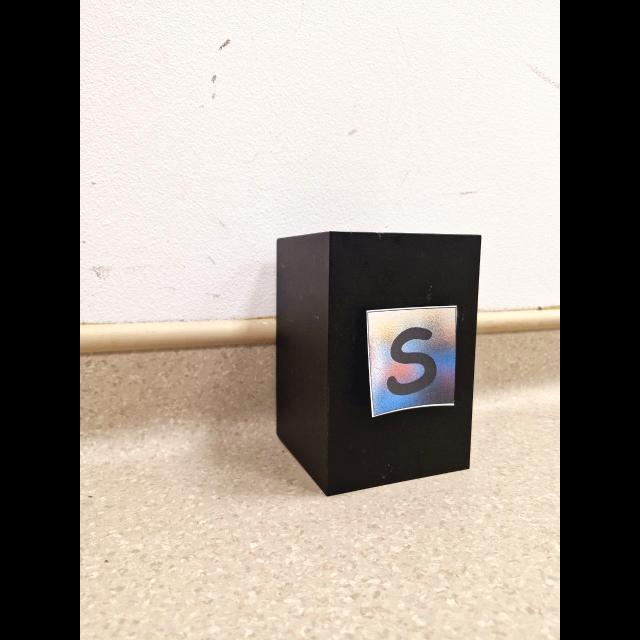S: (388, 328, 436, 395)
